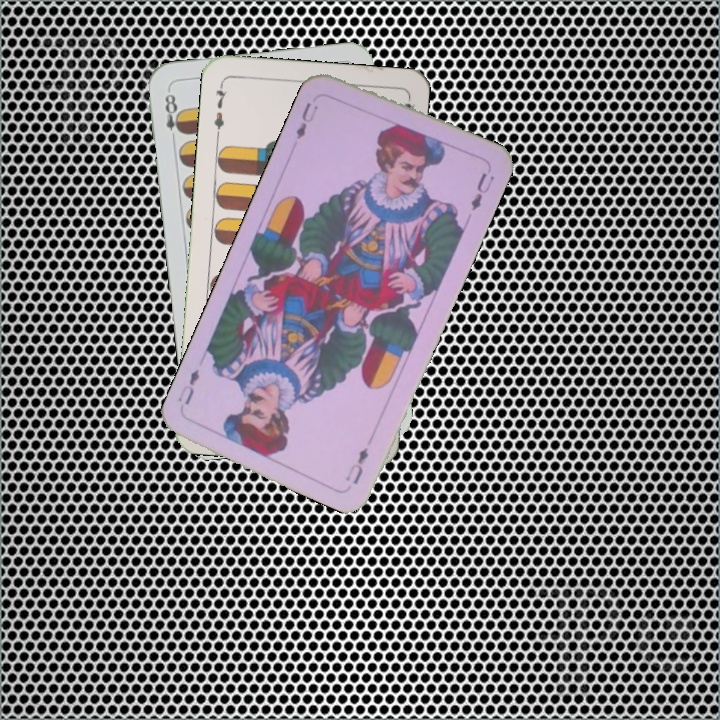E7: (210, 79, 229, 138)
E8: (161, 86, 186, 146)
EU: (292, 98, 321, 142), (342, 443, 371, 487)
